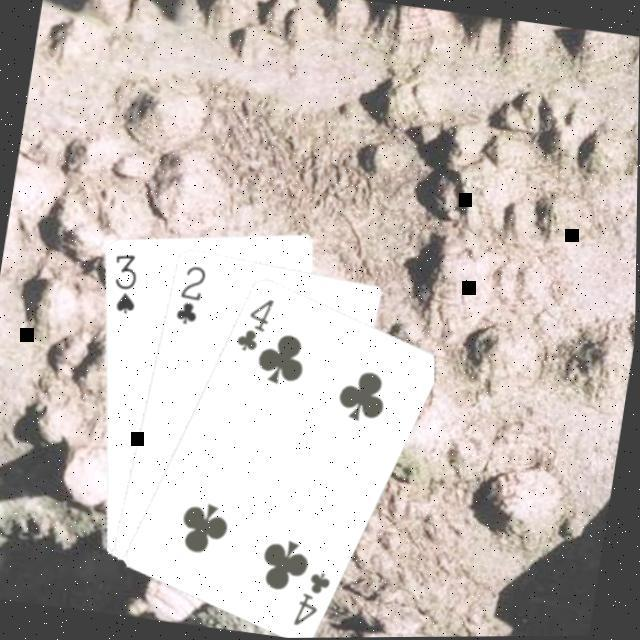2C: (172, 259, 212, 328)
3S: (105, 247, 148, 317)
4C: (291, 564, 338, 631), (234, 290, 279, 356)
